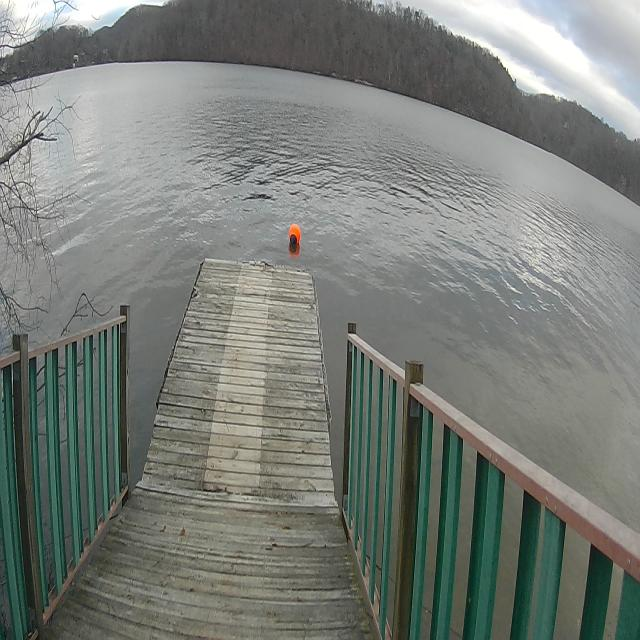Buoy: (288, 215, 304, 252)
